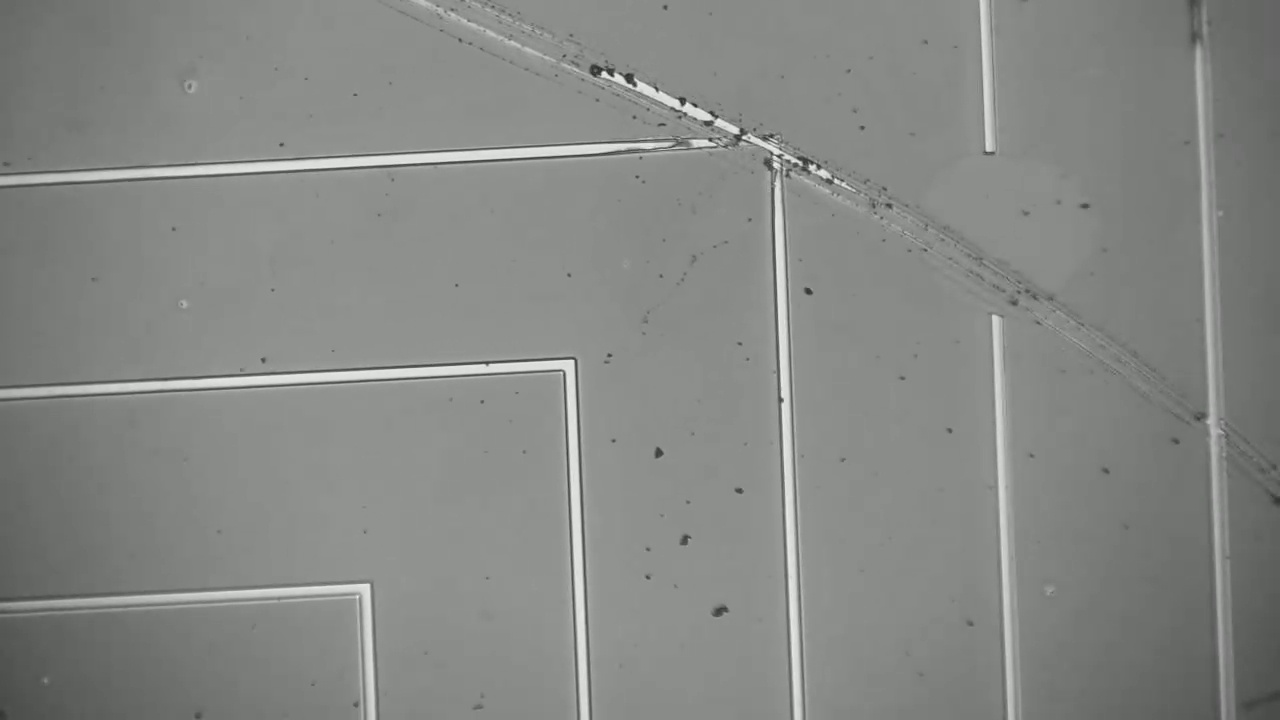gray_line: (1175, 0, 1223, 72)
open: (950, 110, 1029, 360)
scratch: (846, 169, 1279, 489), (364, 0, 764, 139)
